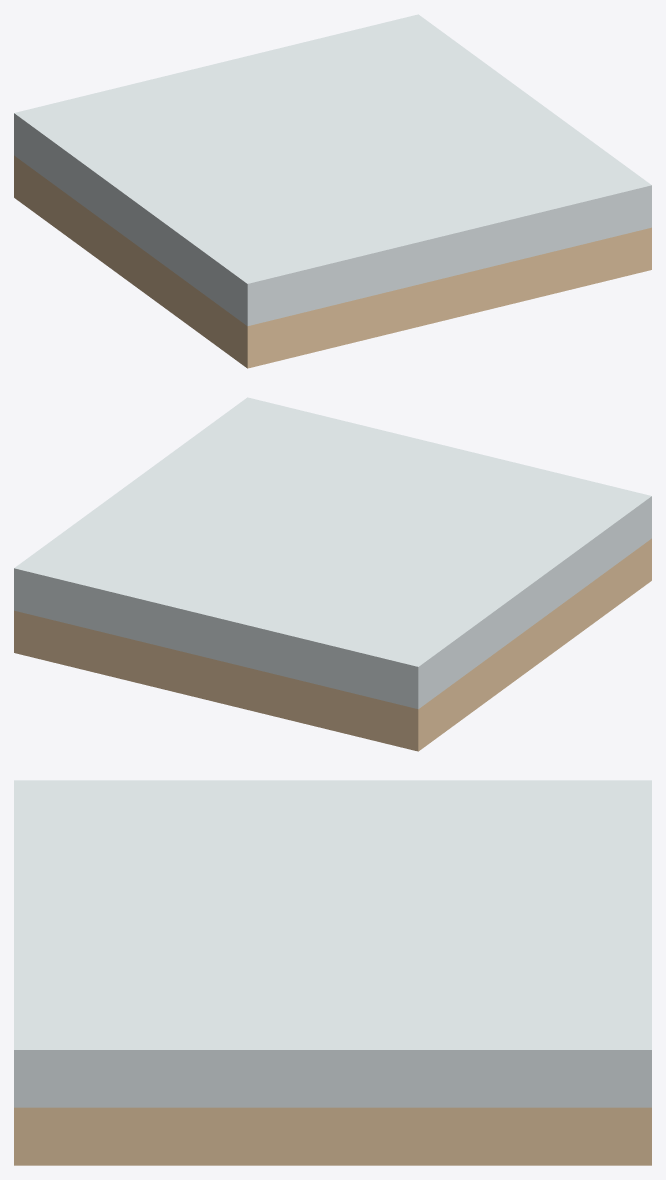
Rendered from floor.fbx.
The picture shows the model from 3 angles, top to bottom: view 1: azimuth 30°, elevation 25°; view 2: azimuth 150°, elevation 25°; view 3: azimuth 270°, elevation 25°; orthographic projection. The views are drawn at different scales.
Parts seen in each view (by area): view 1: snow_tile; view 2: snow_tile; view 3: snow_tile.
Part boxes in pixels (x1,y1,x2,y2): snow_tile: [14, 14, 651, 368]; snow_tile: [14, 397, 651, 751]; snow_tile: [14, 780, 651, 1165].
Size of the model in its own units: 1 by 0.2 by 1.
